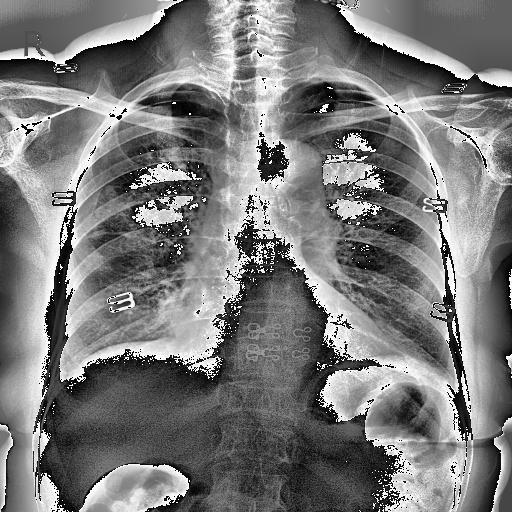0- Aortic enlargement: (252, 138, 324, 194), (257, 136, 324, 196), (272, 138, 324, 208)
10- Pleural effusion: (46, 360, 68, 403)
11- Pleural thickening: (134, 81, 210, 98), (46, 360, 68, 403), (51, 360, 71, 396)
3- Cardiomegaly: (168, 294, 394, 362), (172, 300, 398, 362), (174, 312, 398, 354)
7- Lung Opacity: (279, 198, 329, 234)
8- Nodule-Mass: (279, 198, 329, 234)
